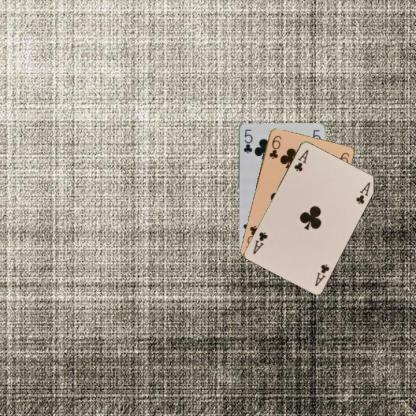5c: (241, 126, 254, 155)
6c: (266, 132, 283, 160)
Ac: (291, 147, 310, 173), (312, 261, 330, 287)
